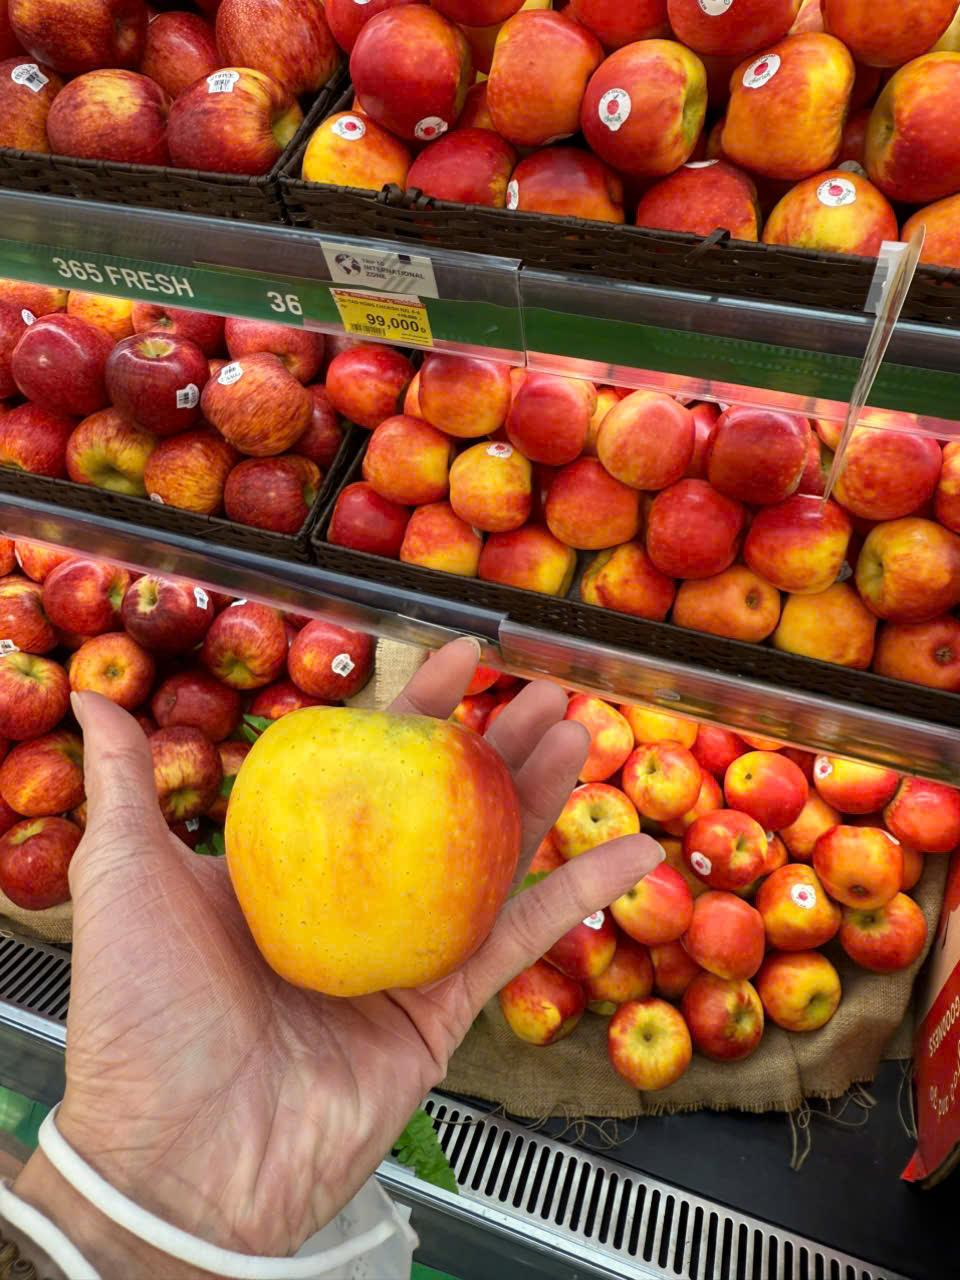apple: (230, 695, 524, 1006), (343, 3, 478, 153), (718, 35, 866, 169), (580, 28, 708, 169), (848, 58, 960, 200), (160, 66, 296, 173), (193, 343, 322, 452), (492, 5, 592, 141), (838, 415, 942, 528), (772, 165, 896, 258), (515, 128, 630, 226), (47, 68, 160, 165), (5, 295, 102, 409), (645, 158, 760, 254), (301, 108, 412, 204), (805, 815, 906, 914), (867, 511, 960, 618), (710, 405, 810, 500), (113, 326, 204, 429), (593, 390, 692, 482), (685, 553, 786, 642), (757, 508, 854, 600), (620, 733, 718, 823), (720, 736, 810, 834), (650, 478, 736, 575), (690, 955, 772, 1056), (450, 440, 532, 540), (585, 533, 678, 620), (228, 451, 314, 543), (788, 586, 880, 670), (415, 126, 510, 206), (407, 356, 506, 431), (325, 466, 402, 559), (610, 993, 688, 1085), (70, 415, 152, 502), (325, 336, 406, 423), (541, 468, 632, 545), (517, 376, 596, 466), (362, 415, 448, 496), (690, 888, 764, 974), (490, 520, 570, 600), (152, 435, 220, 526), (407, 496, 476, 580), (895, 613, 960, 691)
